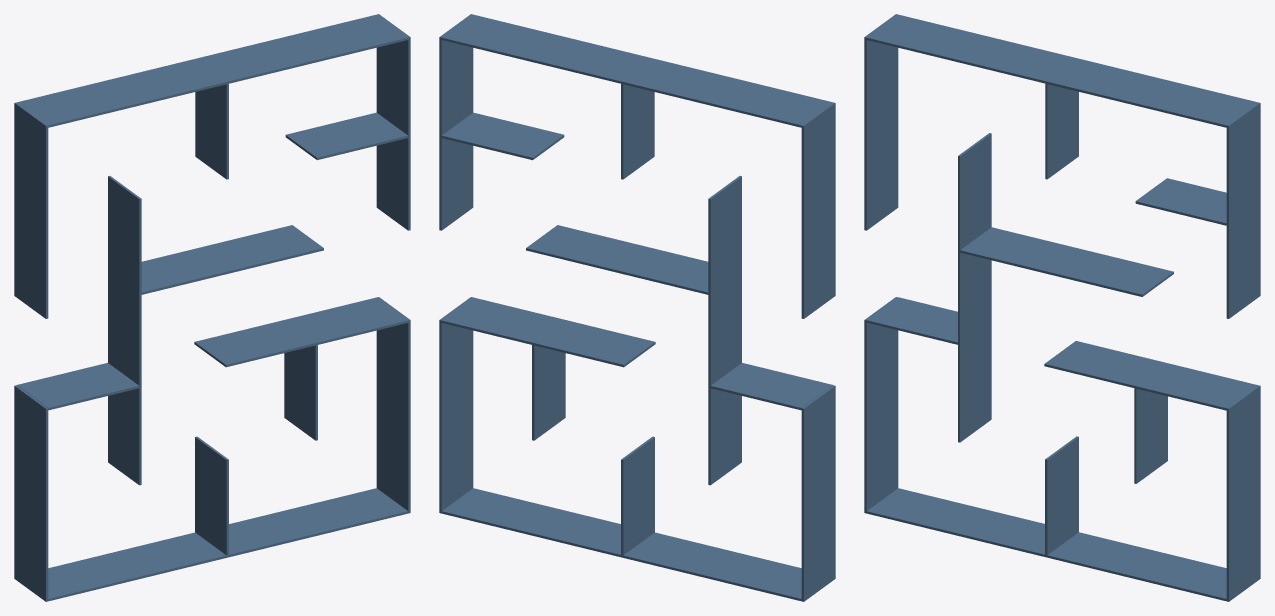
File: PB_Level-05.fbx
The picture shows the model from 3 angles, left to right: view 1: azimuth 30°, elevation 25°; view 2: azimuth 150°, elevation 25°; view 3: azimuth 330°, elevation 25°; orthographic projection.
Visible parts, largest first — view 1: Level 5 Shape; view 2: Level 5 Shape; view 3: Level 5 Shape.
Part boxes in pixels (<box>): Level 5 Shape: <box>14,14,410,601</box>; Level 5 Shape: <box>439,14,835,601</box>; Level 5 Shape: <box>864,14,1260,601</box>.
Size of the model in its own units: 8000 by 9983 by 1200.
